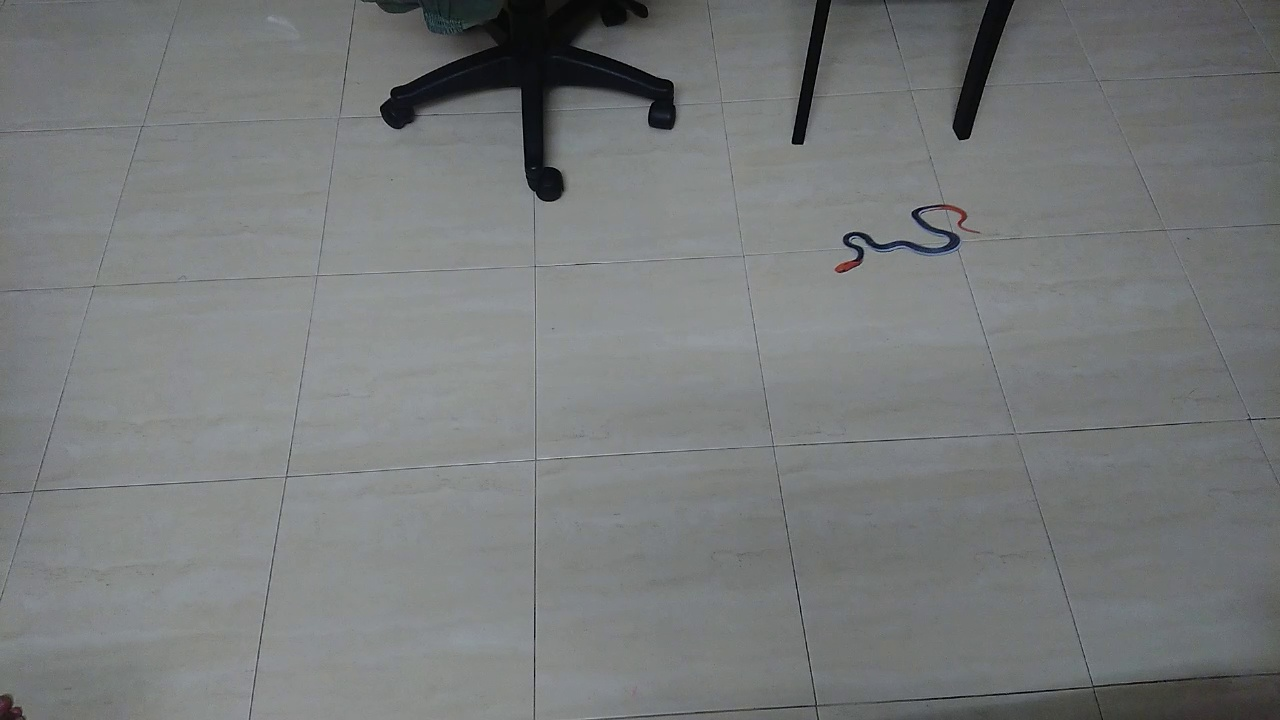snake: (822, 191, 990, 291)
